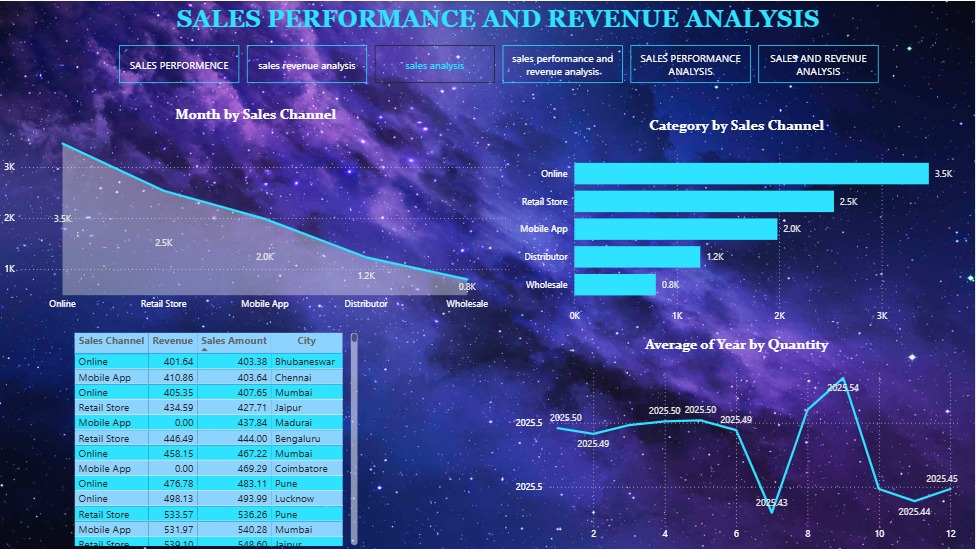

The page's visual inventory and layout, read from the dashboard file:
{"tool":"powerbi","page":{"name":"sales analysis","canvas":[1280,720],"ordinal":2},"visuals":[{"type":"textbox","box":[228.5,0,858.8,57.8],"z":0,"group":"g1"},{"type":"stackedAreaChart","title":"Month by Sales Channel","fields":{"Category":["Sales_Data.Sales Channel"],"Y":["CountNonNull(Sales_Data.Month)"]},"box":[0,137.3,672.2,278.9],"z":0},{"type":"pageNavigator","box":[156.9,57.8,1000,50],"z":1000,"group":"g1"},{"type":"lineChart","fields":{"Category":["Sales_Data.Quantity"],"Y":["Avg(Sales_Data.Year)"]},"box":[672.2,439.1,590.9,279.9],"z":1000},{"type":"barChart","title":"Category by Sales Channel","fields":{"Category":["Sales_Data.Sales Channel"],"Y":["CountNonNull(Sales_Data.Category)"]},"box":[672.2,151.6,590.7,280.3],"z":2000},{"type":"tableEx","fields":{"Values":["Sales_Data.Sales Channel","Sales_Data.Revenue","Sales_Data.Sales Amount","Sales_Data.City"]},"box":[91.5,430.5,383.3,288.9],"z":2001},{"type":"group","id":"g1","title":"Header","box":[156.9,0,1000,107.8],"z":2002}]}

Visuals, with their boxes in screenshot pixels (x1, y1, x2, y2), scaled from the page's 1280x720 canvas onto the 976x549 screenshot:
textbox: <box>174,0,829,44</box>
"Month by Sales Channel" stackedAreaChart: <box>0,105,513,317</box>
pageNavigator: <box>120,44,882,82</box>
lineChart - Sales_Data.Quantity x Avg(Sales_Data.Year): <box>513,335,963,548</box>
"Category by Sales Channel" barChart: <box>513,116,963,329</box>
tableEx - Sales_Data.Sales Channel x Sales_Data.Revenue: <box>70,328,362,548</box>
"Header" group: <box>120,0,882,82</box>
